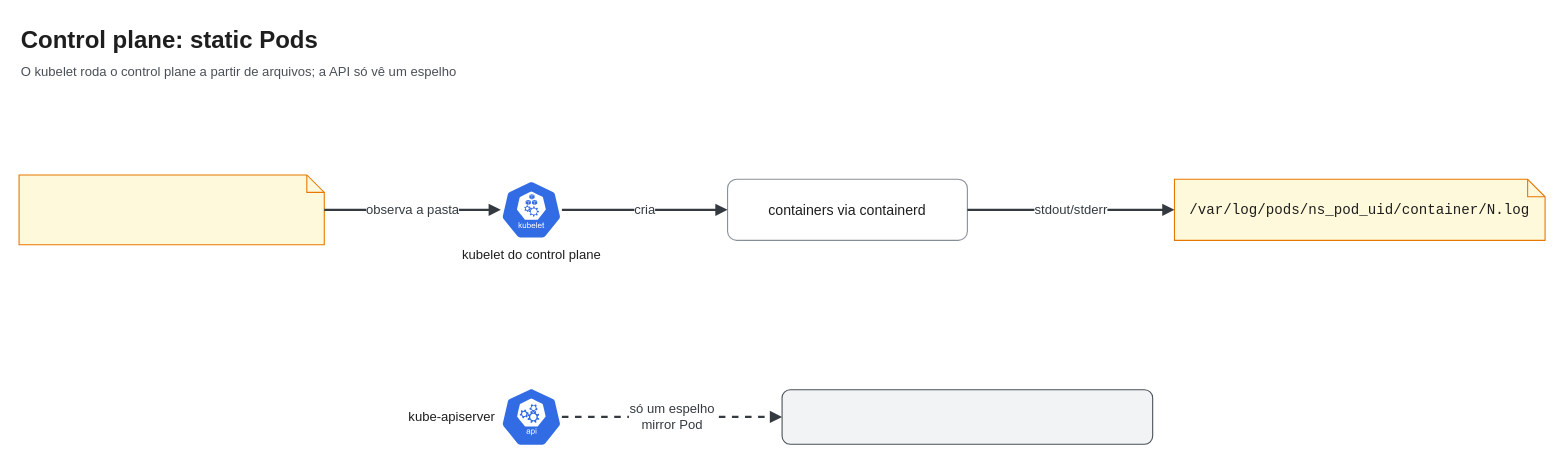
Image size: 1564x467. Some labels were removed from this diagram. Here are the shapes that lost their labels. From the top down, the centre of each, then its label:
At (171,209): "/etc/kubernetes/manifests/ kube-apiserver.yaml ...".
At (967,416): "kubectl get pods -n kube-system".
